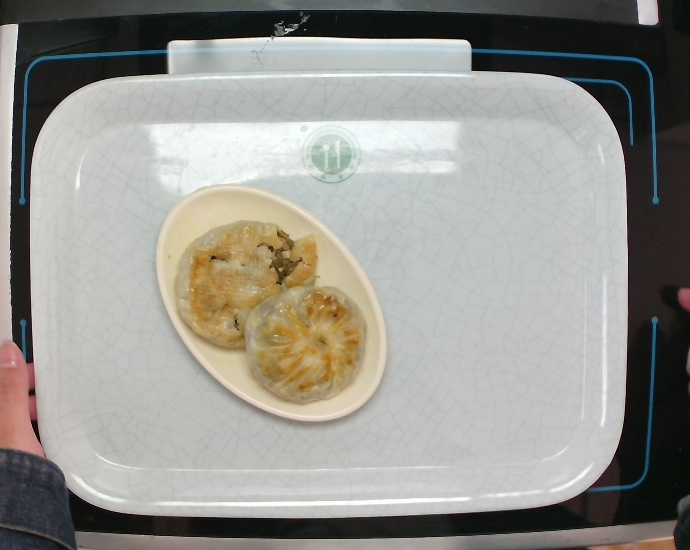JYsf-Tuo_Yuan_Wan: (145, 173, 394, 429)
